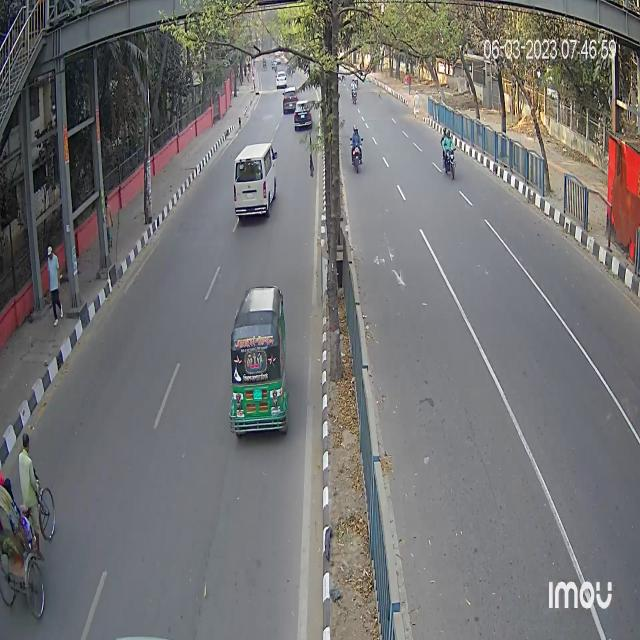cng: (230, 282, 293, 428)
rikshaw: (0, 424, 58, 596)
